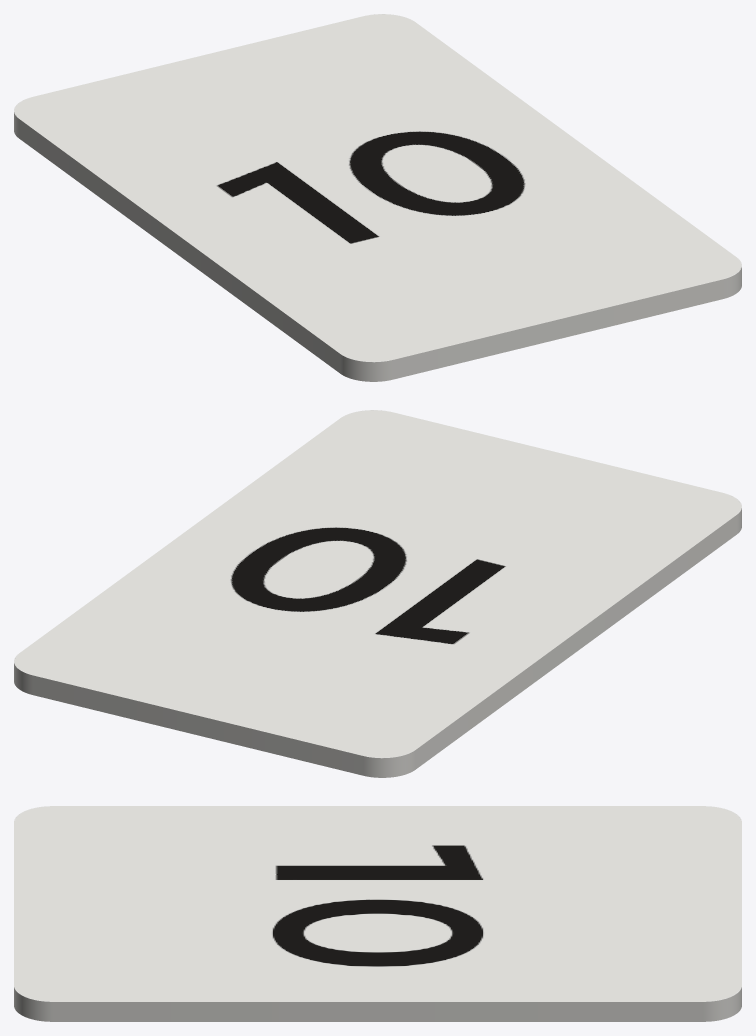
Rendered from white_10.glb.
3 views of the same model, one above another, from view 1: azimuth 30°, elevation 25°; view 2: azimuth 150°, elevation 25°; view 3: azimuth 270°, elevation 25° (orthographic).
Visible parts, largest first — view 1: white_10; view 2: white_10; view 3: white_10.
Part boxes in pixels (x1=…): white_10: x1=14, y1=14, x2=741, y2=381; white_10: x1=14, y1=410, x2=741, y2=777; white_10: x1=14, y1=806, x2=741, y2=1021.
Size of the model in its own units: 0.042 by 0.002 by 0.066.
Materials: 2 (1 with a texture image).
